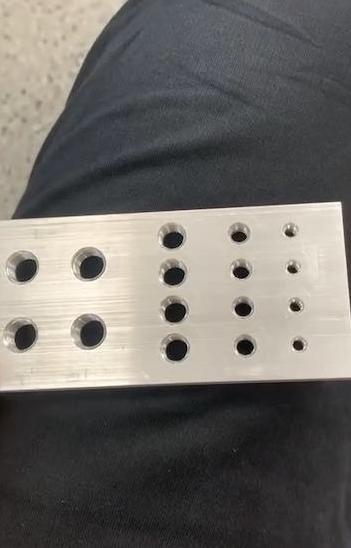hole: (0, 246, 48, 291), (66, 310, 110, 354), (68, 244, 110, 286), (0, 314, 40, 356), (153, 218, 189, 253), (152, 257, 192, 288), (154, 333, 192, 365), (156, 295, 191, 327), (226, 293, 257, 320), (224, 218, 254, 245), (226, 257, 255, 284), (230, 332, 258, 359), (275, 214, 298, 238), (282, 255, 304, 277), (286, 295, 306, 317), (290, 332, 308, 354)
